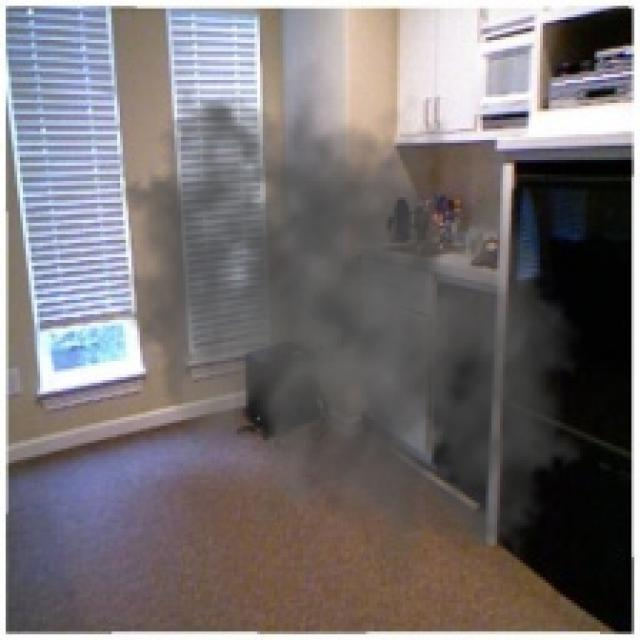smoke: (86, 57, 617, 589)
